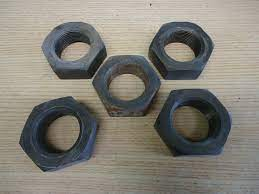No thread: (26, 108, 91, 163), (164, 93, 223, 146), (101, 60, 153, 111), (161, 28, 206, 71), (52, 28, 95, 70)
